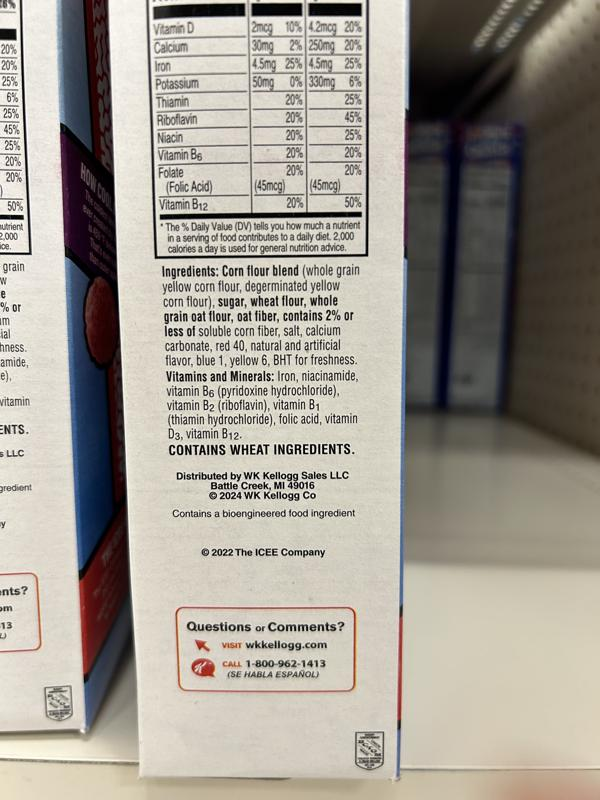ingredients: (159, 263, 365, 443)
